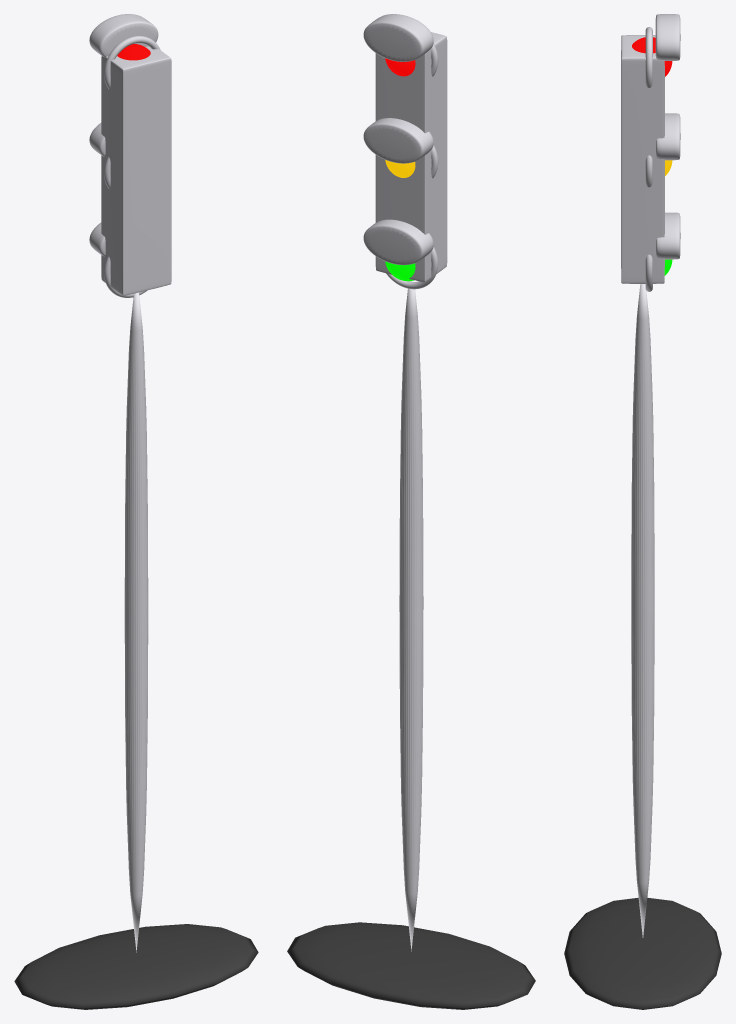
3 renders of one model, left to right at view 1: azimuth 30°, elevation 25°; view 2: azimuth 150°, elevation 25°; view 3: azimuth 270°, elevation 25°, orthographic. The views are drawn at different scales.
Visible parts, largest first — view 1: Cube.001, Cube, Cylinder, Cylinder.001, Torus; view 2: Cube, Cylinder, Cube.001, Cylinder.001, Cylinder.002, Cylinder.003; view 3: Cube, Cylinder, Cube.001, Cylinder.001, Cylinder.003, Cylinder.002, Torus.
Part boxes in pixels (x1,y1,x2,y2): Cube.001: (101,46,171,295); Cube: (14,924,258,1009); Cylinder: (124,292,148,952); Cylinder.001: (89,14,158,57); Torus: (104,36,160,89); Cube: (287,922,535,1009); Cylinder: (399,280,423,951); Cube.001: (375,32,447,282); Cylinder.001: (363,14,433,61); Cylinder.002: (363,118,433,163); Cylinder.003: (363,219,433,265); Cube: (564,897,721,1009); Cylinder: (631,284,654,937); Cube.001: (621,35,664,283); Cylinder.001: (655,14,680,60); Cylinder.003: (656,212,680,259); Cylinder.002: (656,113,680,160); Torus: (645,27,652,87).
Bounding box in the file's own units: 0.8395 × 3.34 × 0.5037.
